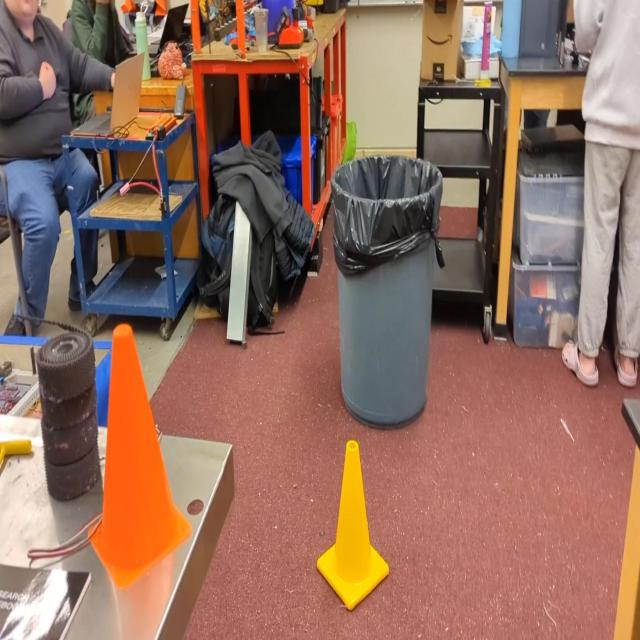frc_cone: (316, 436, 391, 614)
